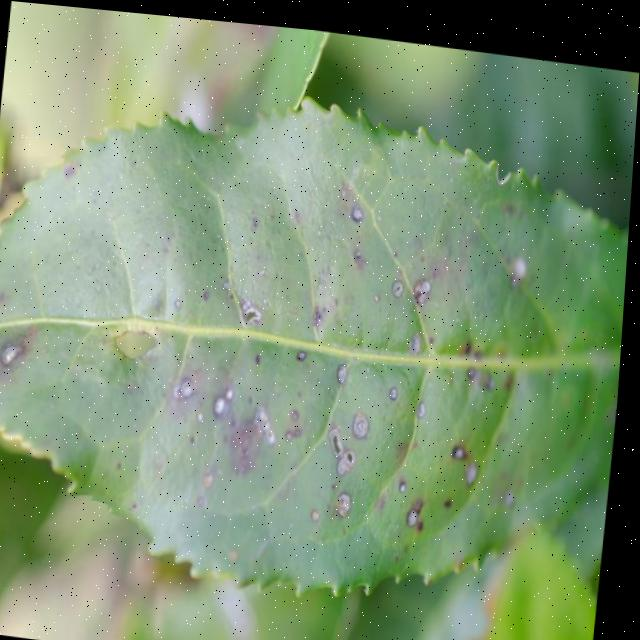Tea red scab: (209, 256, 289, 334), (336, 176, 383, 259), (388, 247, 443, 310), (244, 395, 282, 459), (316, 476, 365, 525), (328, 335, 359, 392), (330, 417, 360, 475), (211, 372, 243, 419), (180, 363, 202, 406), (360, 394, 377, 437), (385, 362, 400, 401), (423, 382, 437, 413)
